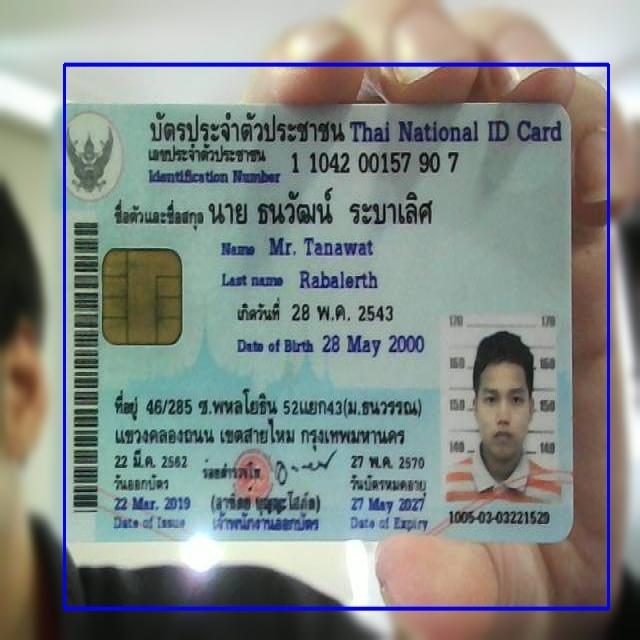Address_th: (110, 382, 428, 451)
Date_of_Birth: (318, 326, 428, 364)
Date_of_Expiry: (348, 494, 436, 516)
Date_of_Issue: (108, 493, 196, 514)
First_Name: (264, 230, 376, 262)
ID_Number: (287, 146, 465, 180)
Image: (444, 314, 558, 508)
Last_Name: (295, 266, 382, 294)
Thai_Name: (205, 186, 439, 230)
